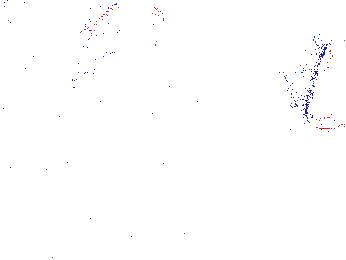moon jellyfish: (72, 53, 174, 120), (87, 1, 163, 79), (1, 18, 66, 78), (304, 39, 346, 131)
